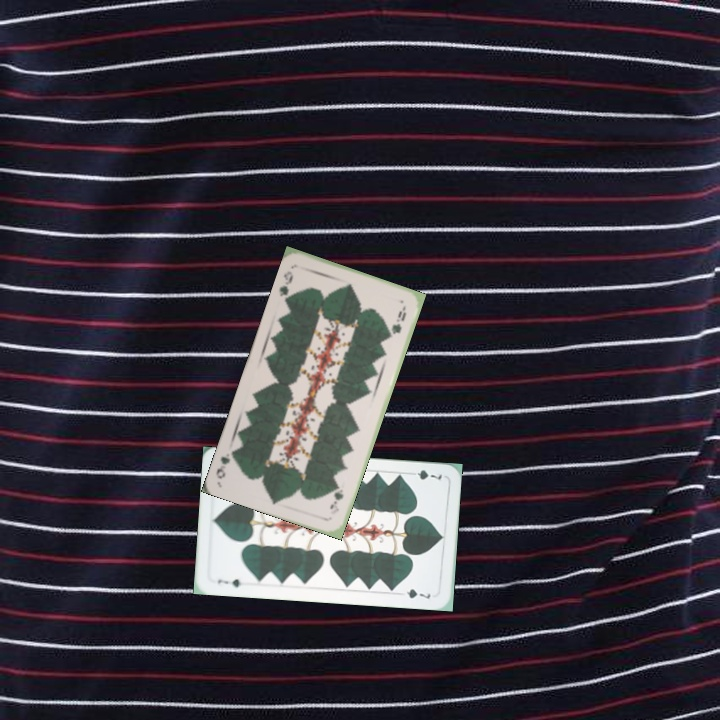G7: (405, 466, 444, 482), (214, 574, 244, 590)
G9: (275, 267, 296, 304), (326, 482, 346, 512)
